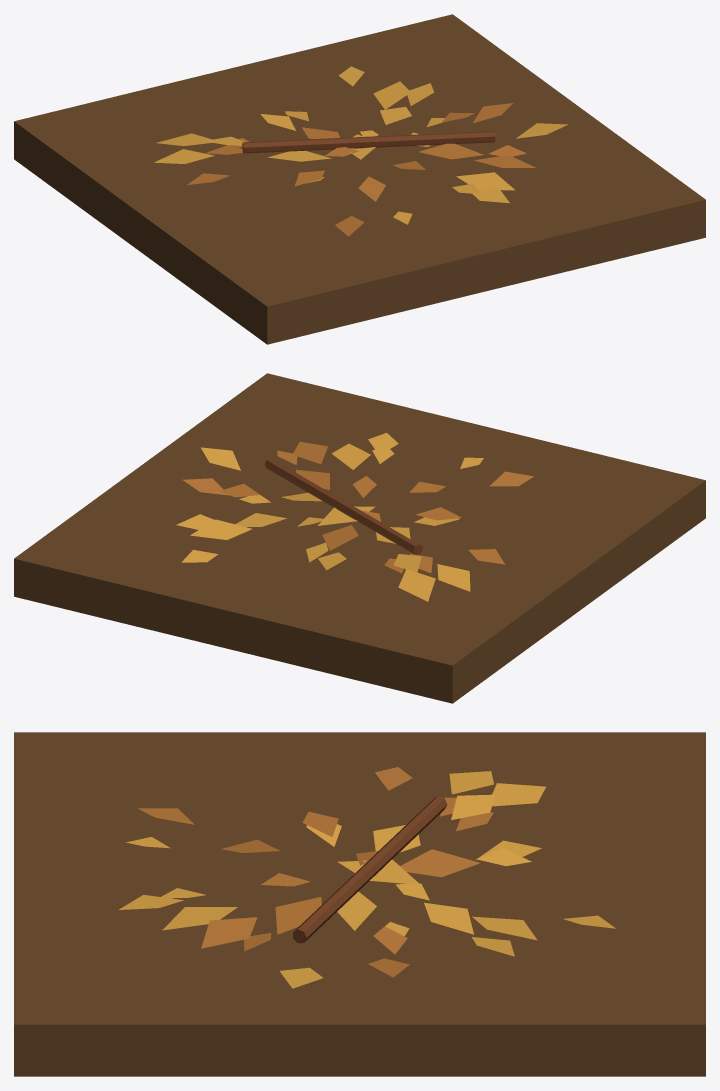
Rendered from dry_leaves.glb.
3 views of the same model, one above another, from view 1: azimuth 30°, elevation 25°; view 2: azimuth 150°, elevation 25°; view 3: azimuth 270°, elevation 25° (orthographic). The views are drawn at different scales.
Visible parts, largest first — view 1: TerrainBase, SmallTwig, DryLeaf.023, DryLeaf.003, DryLeaf.026; view 2: TerrainBase, SmallTwig, DryLeaf.002, DryLeaf.026, DryLeaf.027, DryLeaf.023, DryLeaf.020, DryLeaf.018; view 3: TerrainBase, SmallTwig, DryLeaf.016, DryLeaf.018, DryLeaf.003, DryLeaf.002, DryLeaf.023, DryLeaf.005, DryLeaf.022, DryLeaf, DryLeaf.013, DryLeaf.026 (+6 smaller).
Boxes of the visible parts, left/top/right/bottom form: TerrainBase: left=14, top=14, right=705, bottom=344; SmallTwig: left=242, top=131, right=495, bottom=153; DryLeaf.023: left=456, top=172, right=515, bottom=190; DryLeaf.003: left=419, top=143, right=483, bottom=159; DryLeaf.026: left=373, top=81, right=410, bottom=109; TerrainBase: left=14, top=373, right=705, bottom=703; SmallTwig: left=264, top=458, right=422, bottom=554; DryLeaf.002: left=398, top=569, right=435, bottom=601; DryLeaf.026: left=190, top=519, right=251, bottom=539; DryLeaf.027: left=437, top=564, right=470, bottom=591; DryLeaf.023: left=331, top=443, right=370, bottom=469; DryLeaf.020: left=201, top=447, right=240, bottom=470; DryLeaf.018: left=292, top=441, right=327, bottom=464; TerrainBase: left=14, top=732, right=705, bottom=1076; SmallTwig: left=293, top=796, right=447, bottom=943; DryLeaf.016: left=400, top=849, right=480, bottom=877; DryLeaf.018: left=201, top=917, right=257, bottom=948; DryLeaf.003: left=275, top=897, right=321, bottom=934; DryLeaf.002: left=492, top=783, right=545, bottom=806; DryLeaf.023: left=162, top=907, right=237, bottom=930; DryLeaf.005: left=424, top=902, right=473, bottom=934; DryLeaf.022: left=451, top=794, right=495, bottom=819; DryLeaf: left=338, top=859, right=418, bottom=883; DryLeaf.013: left=337, top=891, right=376, bottom=930; DryLeaf.026: left=472, top=916, right=537, bottom=940.
Bounding box in the file's own units: 7 × 0.848 × 7.
